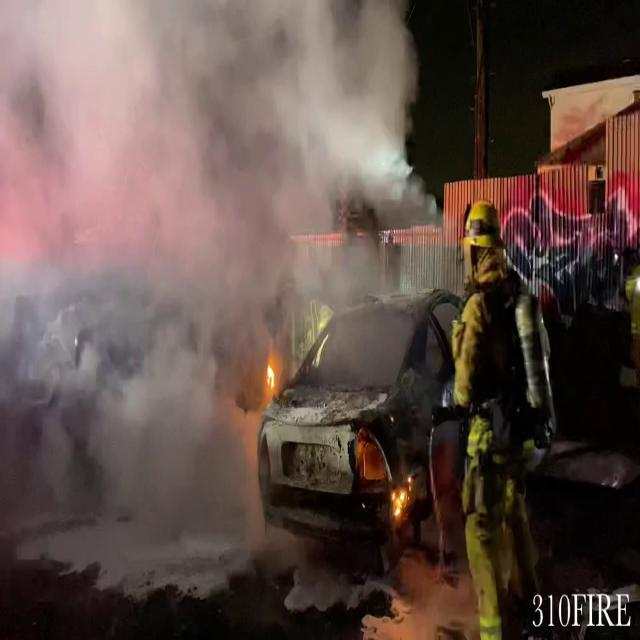Fire: (390, 471, 414, 525)
Smoke: (1, 0, 432, 323), (0, 326, 279, 578)
